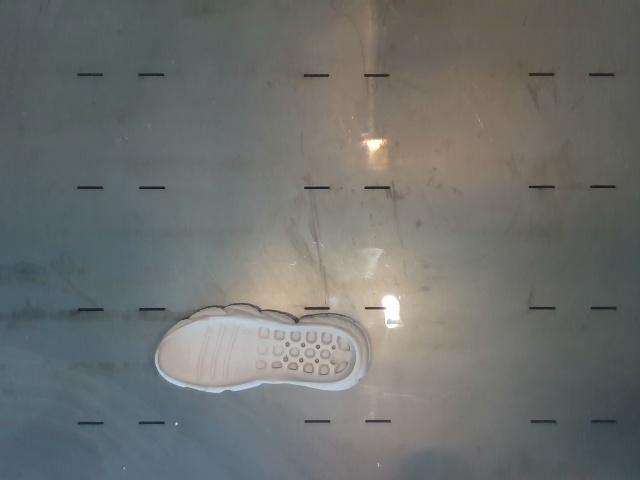shoes: (157, 317, 358, 388)
